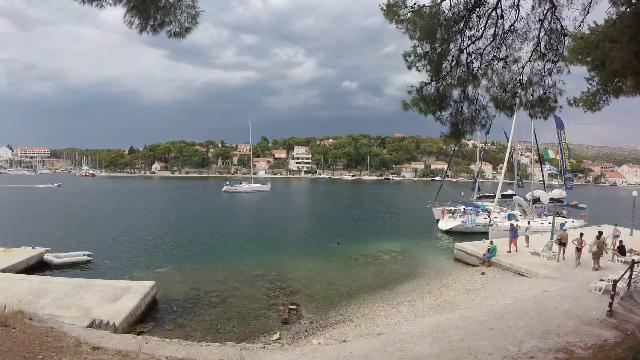Sailboat: (216, 175, 278, 195)
speedboat: (46, 180, 68, 193)
